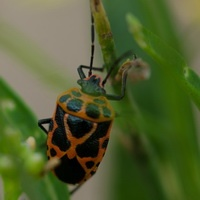insect: (38, 0, 142, 192)
